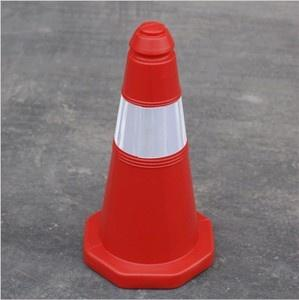cone_barrel: (81, 21, 214, 288)
